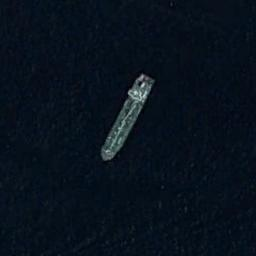boat: (100, 72, 156, 162)
